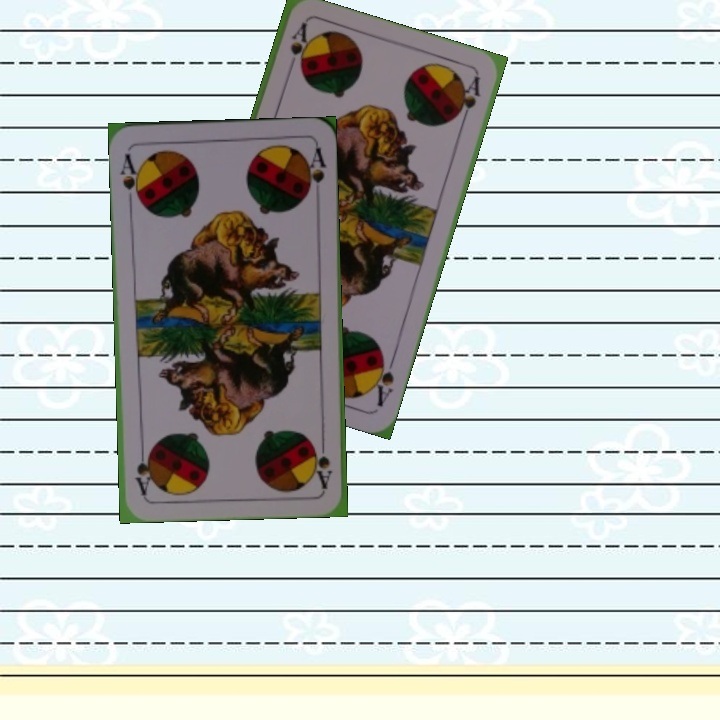SA: (368, 349, 398, 410), (116, 149, 144, 206), (310, 432, 334, 491), (286, 20, 310, 69)
